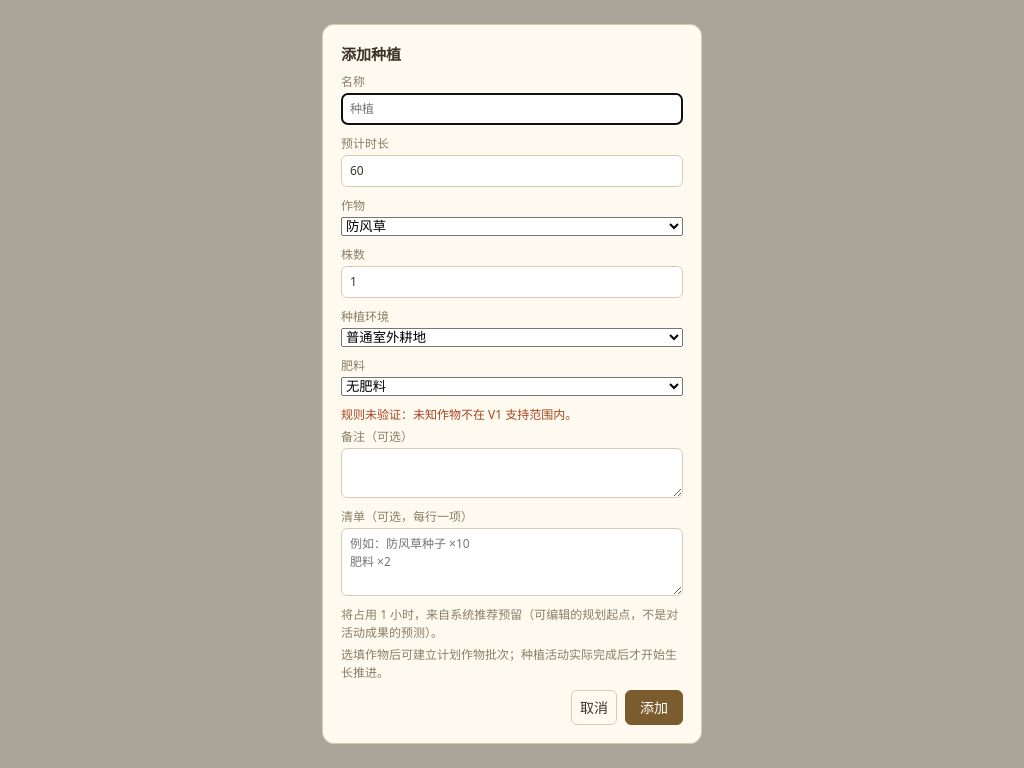
Test: 添加种植活动：作物批次条件 › 温室或施肥条件当场提示「规则未验证」
The image size is (1024, 768).
Select "防风草" in the dropdown labelled "作物" at [512, 227], box [341,217,683,236]
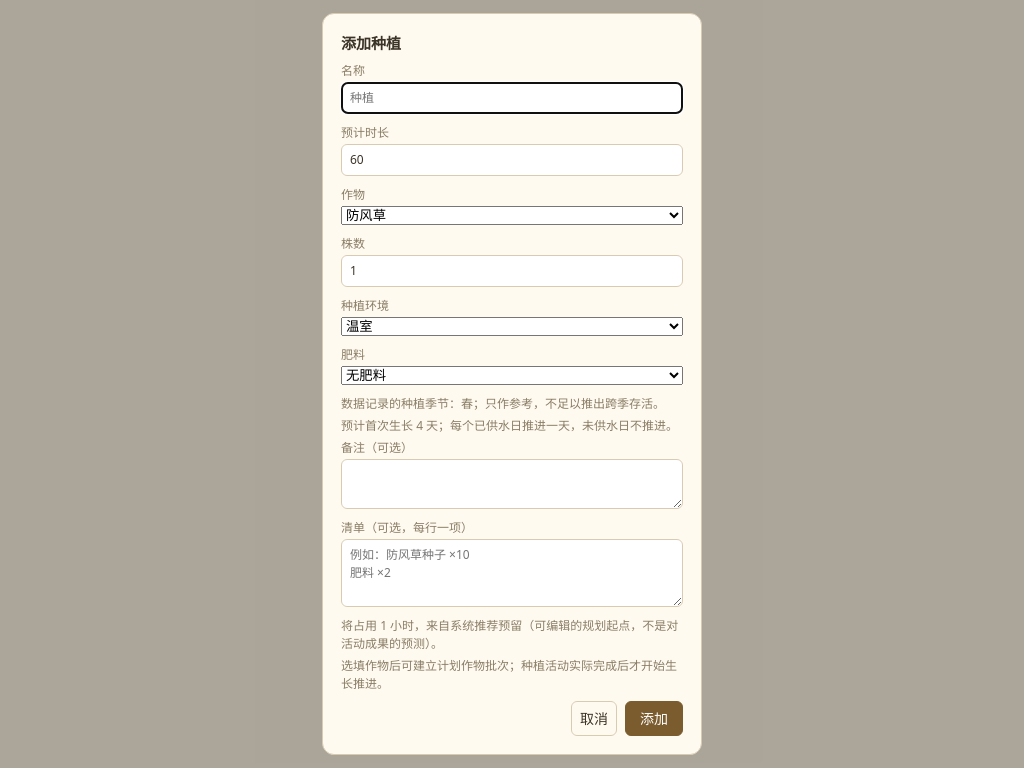
Select "温室" in the dropdown labelled "种植环境" at [512, 327], box [341,317,683,336]
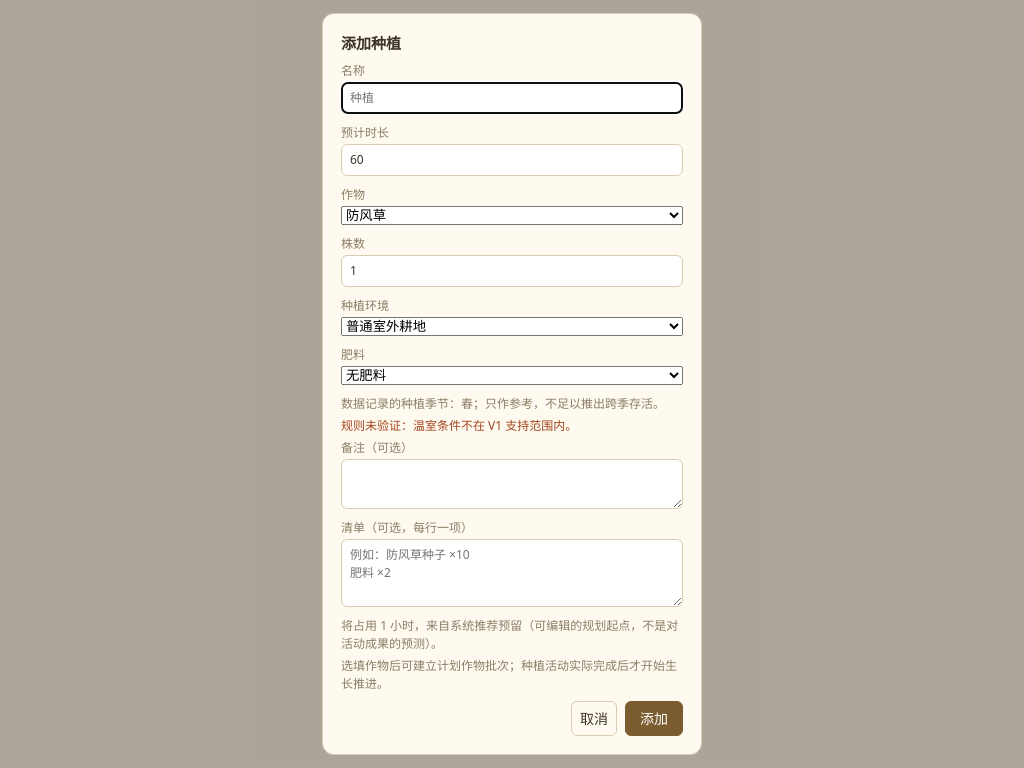
Expected: the text with test id "crop-rule-issue" shows "温室条件", [341,417,577,434]
Select "普通室外耕地" in the dropdown labelled "种植环境" at [512, 327], box [341,317,683,336]
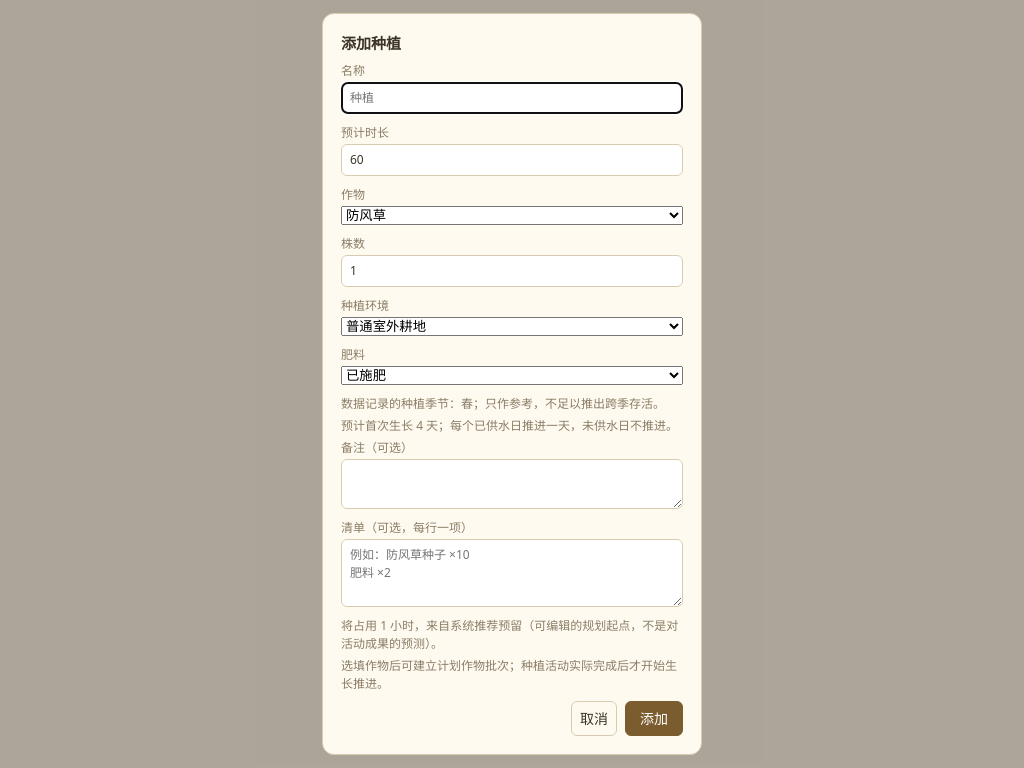
Select "已施肥" in the dropdown labelled "肥料" at [512, 376], box [341,366,683,385]
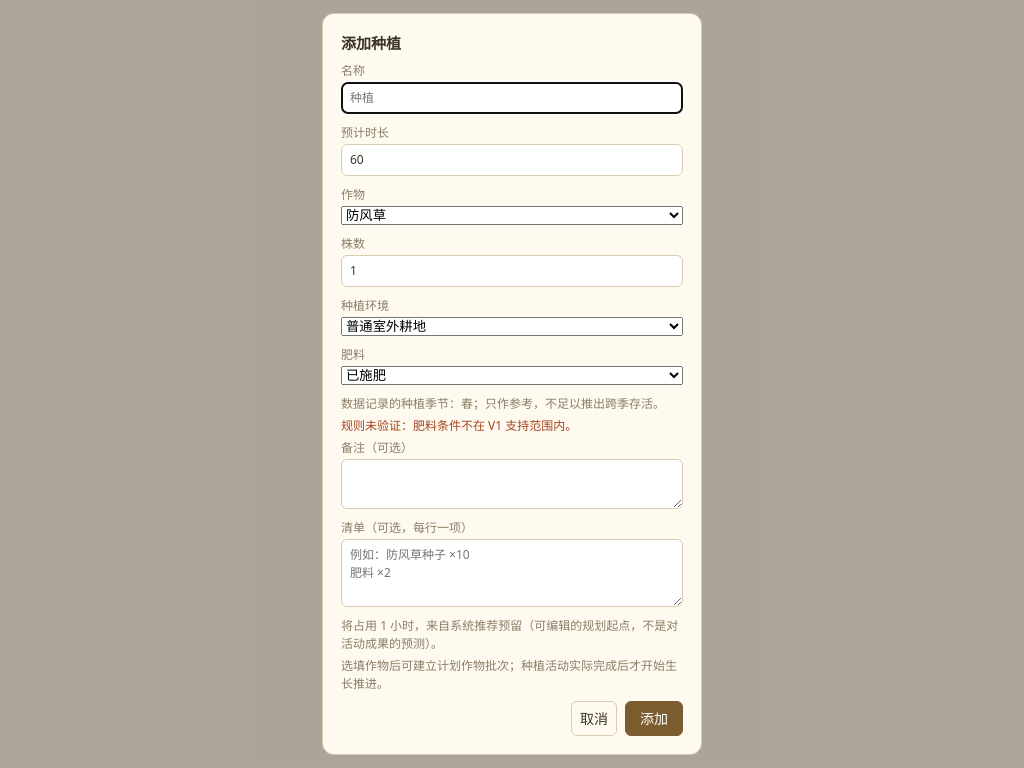
Expected: the text with test id "crop-rule-issue" shows "肥料条件", [341,417,577,434]
